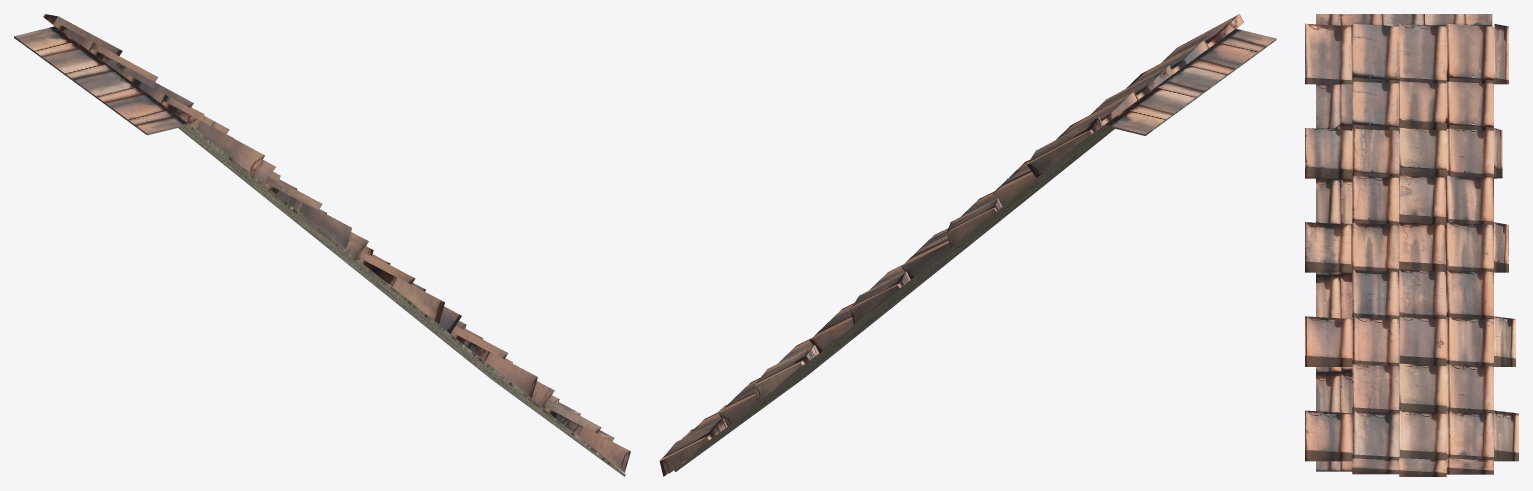
File: ShingleAEndCap.fbx
The picture shows the model from 3 angles, left to right: view 1: azimuth 30°, elevation 25°; view 2: azimuth 150°, elevation 25°; view 3: azimuth 270°, elevation 25°; orthographic projection. The views are drawn at different scales.
Parts seen in each view (by area): view 1: ShingleAEndCap; view 2: ShingleAEndCap; view 3: ShingleAEndCap.
Part boxes in pixels (<box>): ShingleAEndCap: <box>14,14,630,476</box>; ShingleAEndCap: <box>659,14,1276,476</box>; ShingleAEndCap: <box>1305,14,1518,476</box>.
Bounding box in the file's own units: 520 × 471 × 293.
